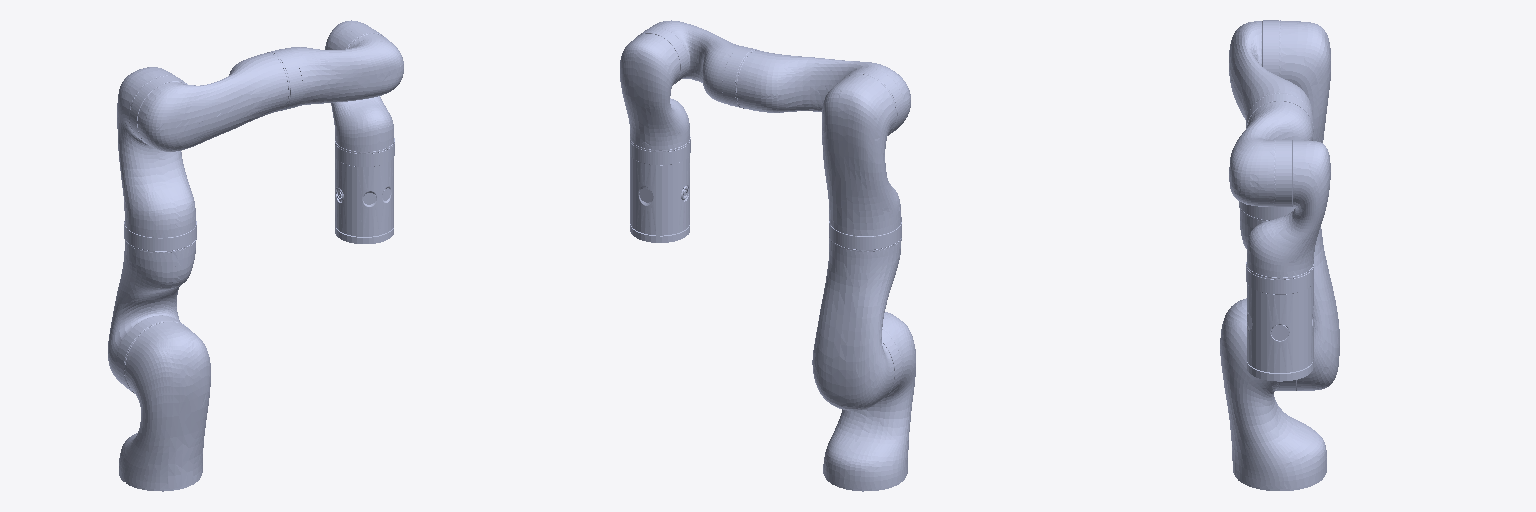
robot.urdf — tcb605f:
<?xml version="1.0" encoding="utf-8"?>
<!-- This URDF was automatically created by SolidWorks to URDF Exporter! Originally created by Stephen Brawner (brawner@gmail.com) 
     Commit Version: 1.6.0-4-g7f85cfe  Build Version: 1.6.7995.38578
     For more information, please see http://wiki.ros.org/sw_urdf_exporter -->
<robot
  name="tcb605f">
  <mujoco>
    <compiler
      meshdir="../meshes/"
      discardvisual="false"
    />
  </mujoco>
  <link
    name="link0">
    <inertial>
      <origin
        xyz="0.000708831292588158 -8.6107534914906E-05 0.0437241147546661"
        rpy="0 0 0" />
      <mass
        value="0.184997778677384" />
      <inertia
        ixx="0.000408655880224899"
        ixy="-6.47925326858495E-07"
        ixz="3.45905947380272E-06"
        iyy="0.000402045698173366"
        iyz="-4.4203315532758E-07"
        izz="0.000394929591269372" />
    </inertial>
    <visual>
      <origin
        xyz="0 0 0"
        rpy="0 0 0" />
      <geometry>
        <mesh
          filename="package://tl_description/meshes/tcb605f/link0.STL" />
      </geometry>
      <material
        name="">
        <color
          rgba="0.792156862745098 0.819607843137255 0.933333333333333 1" />
      </material>
    </visual>
    <collision>
      <origin
        xyz="0 0 0"
        rpy="0 0 0" />
      <geometry>
        <mesh
          filename="package://tl_description/meshes/tcb605f/link0.STL" />
      </geometry>
    </collision>
  </link>
  <link
    name="link1">
    <inertial>
      <origin
        xyz="-1.47467364543795E-05 -0.0147035745839652 0.074170065372986"
        rpy="0 0 0" />
      <mass
        value="0.14078274314442" />
      <inertia
        ixx="0.000389165158363872"
        ixy="7.76850517532585E-09"
        ixz="-3.45965366455443E-08"
        iyy="0.000404601054210795"
        iyz="5.39676858807366E-05"
        izz="0.000158801770197842" />
    </inertial>
    <visual>
      <origin
        xyz="0 0 0"
        rpy="0 0 0" />
      <geometry>
        <mesh
          filename="package://tl_description/meshes/tcb605f/link1.STL" />
      </geometry>
      <material
        name="">
        <color
          rgba="0.792156862745098 0.819607843137255 0.933333333333333 1" />
      </material>
    </visual>
    <collision>
      <origin
        xyz="0 0 0"
        rpy="0 0 0" />
      <geometry>
        <mesh
          filename="package://tl_description/meshes/tcb605f/link1.STL" />
      </geometry>
    </collision>
  </link>
  <joint
    name="joint1"
    type="revolute">
    <origin
      xyz="0 0 0.11455"
      rpy="0 0 0" />
    <parent
      link="link0" />
    <child
      link="link1" />
    <axis
      xyz="0 0 1" />
    <limit
      lower="-3.1226"
      upper="3.1226"
      effort="0"
      velocity="0" />
  </joint>
  <link
    name="link2">
    <inertial>
      <origin
        xyz="-5.76531237161324E-05 0.131631880772405 -0.00890404740131981"
        rpy="0 0 0" />
      <mass
        value="0.239054089668246" />
      <inertia
        ixx="0.00213390518057628"
        ixy="2.2739766824801E-06"
        ixz="2.27513950872364E-07"
        iyy="0.000220526681271214"
        iyz="-8.9084509187329E-05"
        izz="0.00215092260732315" />
    </inertial>
    <visual>
      <origin
        xyz="0 0 0"
        rpy="0 0 0" />
      <geometry>
        <mesh
          filename="package://tl_description/meshes/tcb605f/link2.STL" />
      </geometry>
      <material
        name="">
        <color
          rgba="0.792156862745098 0.819607843137255 0.933333333333333 1" />
      </material>
    </visual>
    <collision>
      <origin
        xyz="0 0 0"
        rpy="0 0 0" />
      <geometry>
        <mesh
          filename="package://tl_description/meshes/tcb605f/link2.STL" />
      </geometry>
    </collision>
  </link>
  <joint
    name="joint2"
    type="revolute">
    <origin
      xyz="0 0.00715 0.12745"
      rpy="1.5708 0 0" />
    <parent
      link="link1" />
    <child
      link="link2" />
    <axis
      xyz="0 0 1" />
    <limit
      lower="-2.3562"
      upper="2.3562"
      effort="0"
      velocity="0" />
  </joint>
  <link
    name="link3">
    <inertial>
      <origin
        xyz="6.48637248773509E-06 -0.0577535050721888 0.00898472398657336"
        rpy="0 0 0" />
      <mass
        value="0.0945260952126201" />
      <inertia
        ixx="0.000237785884378311"
        ixy="5.30816342220595E-08"
        ixz="1.06494695076033E-09"
        iyy="6.42616764244887E-05"
        iyz="-4.60316588385548E-05"
        izz="0.000240859360085228" />
    </inertial>
    <visual>
      <origin
        xyz="0 0 0"
        rpy="0 0 0" />
      <geometry>
        <mesh
          filename="package://tl_description/meshes/tcb605f/link3.STL" />
      </geometry>
      <material
        name="">
        <color
          rgba="0.792156862745098 0.819607843137255 0.933333333333333 1" />
      </material>
    </visual>
    <collision>
      <origin
        xyz="0 0 0"
        rpy="0 0 0" />
      <geometry>
        <mesh
          filename="package://tl_description/meshes/tcb605f/link3.STL" />
      </geometry>
    </collision>
  </link>
  <joint
    name="joint3"
    type="revolute">
    <origin
      xyz="0 0.27 0.0153"
      rpy="0 0 1.5708" />
    <parent
      link="link2" />
    <child
      link="link3" />
    <axis
      xyz="0 0 1" />
    <limit
      lower="-0.9520"
      upper="4.0666"
      effort="0"
      velocity="0" />
  </joint>
  <link
    name="link4">
    <inertial>
      <origin
        xyz="-1.01576330140962E-05 0.0129940458458097 0.0554922928042426"
        rpy="0 0 0" />
      <mass
        value="0.0720848684426215" />
      <inertia
        ixx="0.00010541497108157"
        ixy="1.21042655660778E-08"
        ixz="-2.50153288837008E-09"
        iyy="0.000106134759059465"
        iyz="-1.86457231071631E-05"
        izz="4.55695494883017E-05" />
    </inertial>
    <visual>
      <origin
        xyz="0 0 0"
        rpy="0 0 0" />
      <geometry>
        <mesh
          filename="package://tl_description/meshes/tcb605f/link4.STL" />
      </geometry>
      <material
        name="">
        <color
          rgba="0.792156862745098 0.819607843137255 0.933333333333333 1" />
      </material>
    </visual>
    <collision>
      <origin
        xyz="0 0 0"
        rpy="0 0 0" />
      <geometry>
        <mesh
          filename="package://tl_description/meshes/tcb605f/link4.STL" />
      </geometry>
    </collision>
  </link>
  <joint
    name="joint4"
    type="revolute">
    <origin
      xyz="0 -0.13665 -0.00815"
      rpy="1.5708 0 0" />
    <parent
      link="link3" />
    <child
      link="link4" />
    <axis
      xyz="0 0 1" />
    <limit
      lower="-3.1226"
      upper="3.1226"
      effort="0"
      velocity="0" />
  </joint>
  <link
    name="link5">
    <inertial>
      <origin
        xyz="-0.0369306285387999 1.16402019914585E-06 0.0122182238894744"
        rpy="0 0 0" />
      <mass
        value="0.0641133441908568" />
      <inertia
        ixx="4.10035567442273E-05"
        ixy="-7.63158069646057E-09"
        ixz="-2.10915440478396E-05"
        iyy="9.88030203965578E-05"
        iyz="3.02088092405453E-09"
        izz="9.73770801182293E-05" />
    </inertial>
    <visual>
      <origin
        xyz="0 0 0"
        rpy="0 0 0" />
      <geometry>
        <mesh
          filename="package://tl_description/meshes/tcb605f/link5.STL" />
      </geometry>
      <material
        name="">
        <color
          rgba="0.792156862745098 0.819607843137255 0.933333333333333 1" />
      </material>
    </visual>
    <collision>
      <origin
        xyz="0 0 0"
        rpy="0 0 0" />
      <geometry>
        <mesh
          filename="package://tl_description/meshes/tcb605f/link5.STL" />
      </geometry>
    </collision>
  </link>
  <joint
    name="joint5"
    type="revolute">
    <origin
      xyz="0 -0.00365 0.09335"
      rpy="1.5708 0 0" />
    <parent
      link="link4" />
    <child
      link="link5" />
    <axis
      xyz="0 0 1" />
    <limit
      lower="-3.8921"
      upper="0.7505"
      effort="0"
      velocity="0" />
  </joint>
  <link
    name="link6">
    <inertial>
      <origin
        xyz="-0.000187652613662603 3.81811300567136E-05 -0.0324174241234124"
        rpy="0 0 0" />
      <mass
        value="0.126841499982527" />
      <inertia
        ixx="0.000104196465098459"
        ixy="-1.52208609786356E-08"
        ixz="-2.97327702578037E-07"
        iyy="0.000105247822325088"
        iyz="3.40275279851405E-08"
        izz="6.69703542062775E-05" />
    </inertial>
    <visual>
      <origin
        xyz="0 0 0"
        rpy="0 0 0" />
      <geometry>
        <mesh
          filename="package://tl_description/meshes/tcb605f/link6.STL" />
      </geometry>
      <material
        name="">
        <color
          rgba="0.792156862745098 0.819607843137255 0.933333333333333 1" />
      </material>
    </visual>
    <collision>
      <origin
        xyz="0 0 0"
        rpy="0 0 0" />
      <geometry>
        <mesh
          filename="package://tl_description/meshes/tcb605f/link6.STL" />
      </geometry>
    </collision>
  </link>
  <joint
    name="joint6"
    type="revolute">
    <origin
      xyz="-0.1855 0 -0.00365"
      rpy="-1.5708 0 1.5708" />
    <parent
      link="link5" />
    <child
      link="link6" />
    <axis
      xyz="0 0 1" />
    <limit
      lower="-3.1226"
      upper="3.1226"
      effort="0"
      velocity="0" />
  </joint>
</robot>

--- What the picture shows (computed from the rendered views, not written in the file) ---
The picture shows the robot from 3 angles, left to right: view 1: azimuth 30°, elevation 25°; view 2: azimuth 150°, elevation 25°; view 3: azimuth 270°, elevation 25°; orthographic projection.
Model tcb605f with 7 links and 6 joints (6 revolute), rooted at link0, posed every joint at zero.
Links seen in each view (by area): view 1: link2, link1, link3, link4, link6, link5; view 2: link2, link1, link5, link3, link6, link4; view 3: link1, link2, link5, link4, link6, link3.
Boxes of the visible links, box(x1,y1,x2,y2) form: link2: box(108, 67, 196, 383); link1: box(117, 315, 210, 491); link3: box(137, 49, 302, 151); link4: box(285, 28, 403, 106); link6: box(335, 157, 393, 243); link5: box(325, 20, 394, 166); link2: box(812, 68, 904, 410); link1: box(823, 312, 915, 491); link5: box(620, 34, 690, 164); link3: box(722, 46, 910, 126); link6: box(630, 155, 689, 242); link4: box(637, 20, 741, 103); link1: box(1220, 298, 1326, 490); link2: box(1239, 20, 1339, 390); link5: box(1246, 140, 1330, 294); link4: box(1229, 101, 1313, 206); link6: box(1247, 283, 1313, 381); link3: box(1229, 21, 1313, 135).
Bounding box of the posed robot: 0.3008 × 0.1038 × 0.428 m (x, y, z).
6 mesh visuals loaded from 7 distinct referenced files (6 binary STL); not drawn: 1 (reference not matched to a file when rendering).
